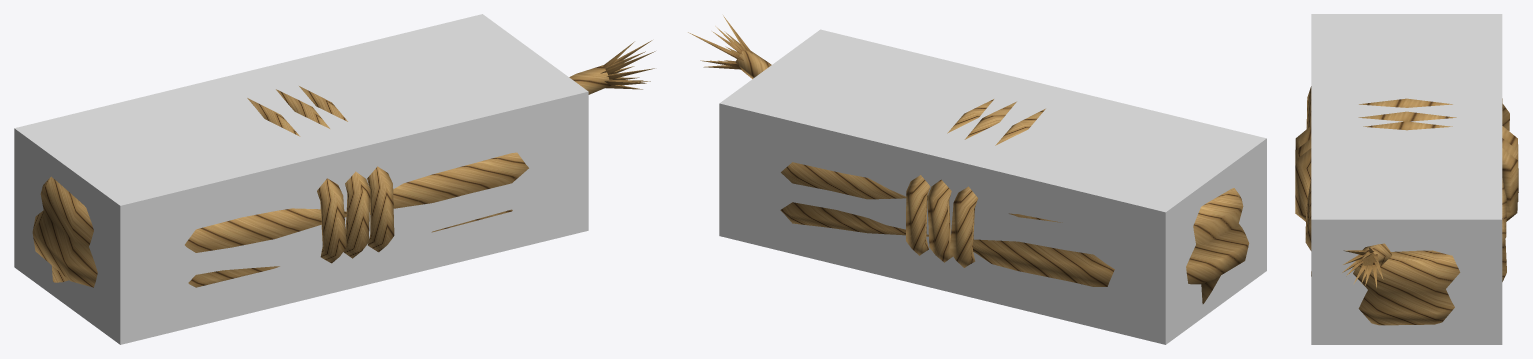
The model's file is IO_Fiber_Binding_A_Coil.glb.
3 views of the same model, side by side, from view 1: azimuth 30°, elevation 25°; view 2: azimuth 150°, elevation 25°; view 3: azimuth 270°, elevation 25° (orthographic). The views are drawn at different scales.
Visible parts, largest first — view 1: IO_Fiber_Binding_A_Coil_COL, IO_Fiber_Binding_A_Coil_LOD0; view 2: IO_Fiber_Binding_A_Coil_COL, IO_Fiber_Binding_A_Coil_LOD0; view 3: IO_Fiber_Binding_A_Coil_COL, IO_Fiber_Binding_A_Coil_LOD0.
Part boxes in pixels (bbox=[...]): IO_Fiber_Binding_A_Coil_COL: bbox=[14, 14, 588, 344]; IO_Fiber_Binding_A_Coil_LOD0: bbox=[32, 40, 655, 287]; IO_Fiber_Binding_A_Coil_COL: bbox=[719, 29, 1266, 344]; IO_Fiber_Binding_A_Coil_LOD0: bbox=[688, 15, 1249, 303]; IO_Fiber_Binding_A_Coil_COL: bbox=[1311, 14, 1502, 344]; IO_Fiber_Binding_A_Coil_LOD0: bbox=[1295, 86, 1518, 325].
Size of what is drawn, in the model's own units: 0.578 by 0.1382 by 0.2111.
1 material, 1 textured.
